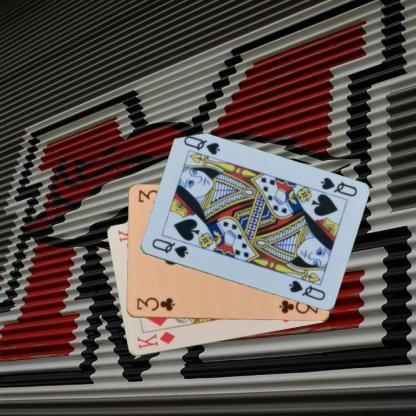3c: (134, 294, 176, 312)
Kd: (134, 328, 176, 350)
Qs: (149, 236, 190, 259), (317, 175, 358, 198)
